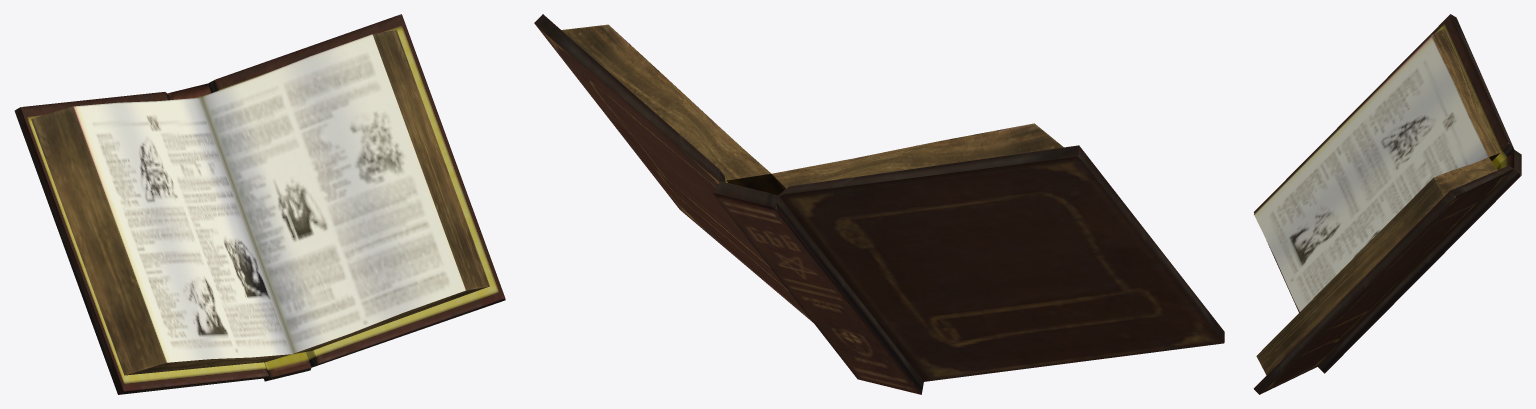
The model's file is grimoire.fbx.
The picture shows the model from 3 angles, left to right: view 1: azimuth 30°, elevation 25°; view 2: azimuth 150°, elevation 25°; view 3: azimuth 270°, elevation 25°; orthographic projection. The views are drawn at different scales.
Parts seen in each view (by area): view 1: Grimoire; view 2: Grimoire; view 3: Grimoire.
Part boxes in pixels (x1=…): Grimoire: x1=14, y1=14, x2=505, y2=394; Grimoire: x1=534, y1=14, x2=1224, y2=394; Grimoire: x1=1253, y1=14, x2=1521, y2=394.
Size of the model in its own units: 82.53 by 54.91 by 52.06.
